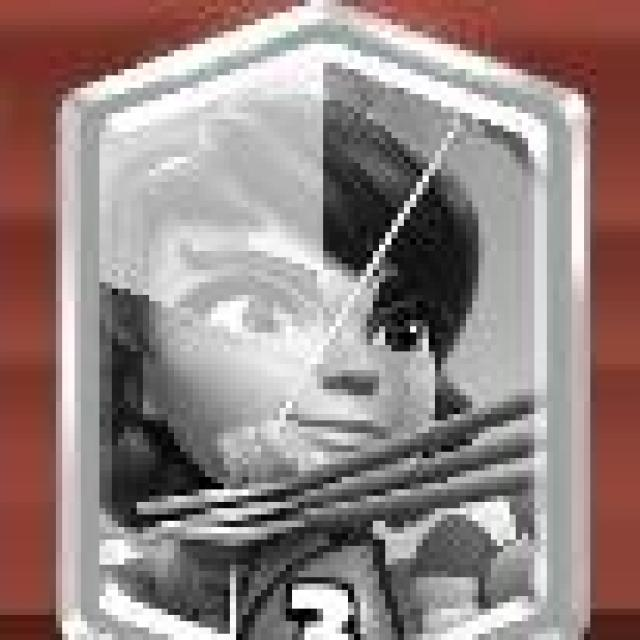Princess: (54, 8, 592, 640)
